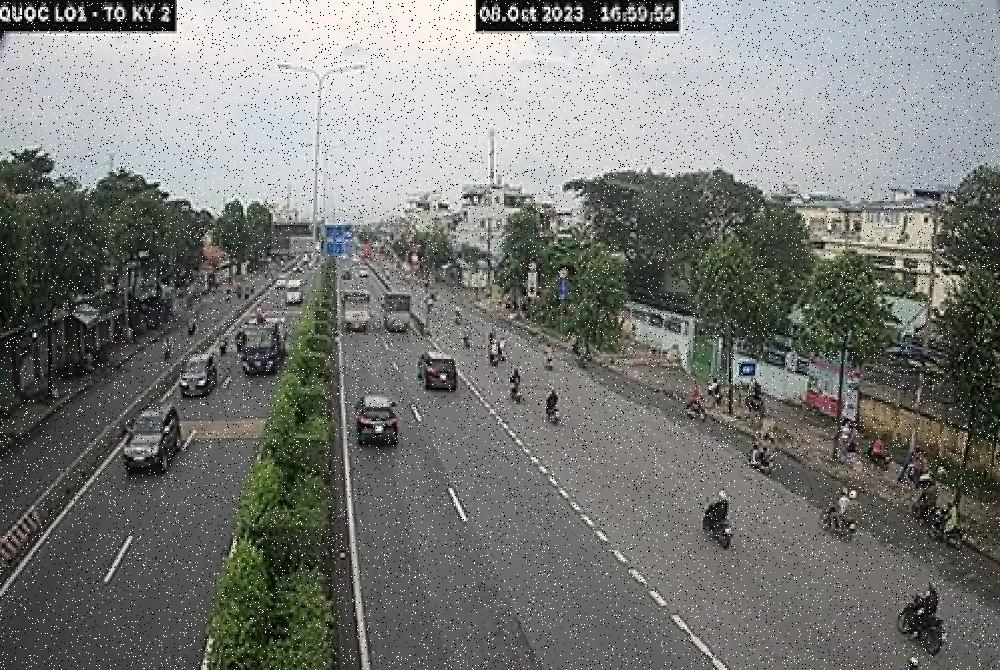car: (422, 343, 492, 424), (117, 405, 197, 471), (353, 386, 393, 453)
truck: (338, 270, 390, 348), (372, 282, 422, 337)
